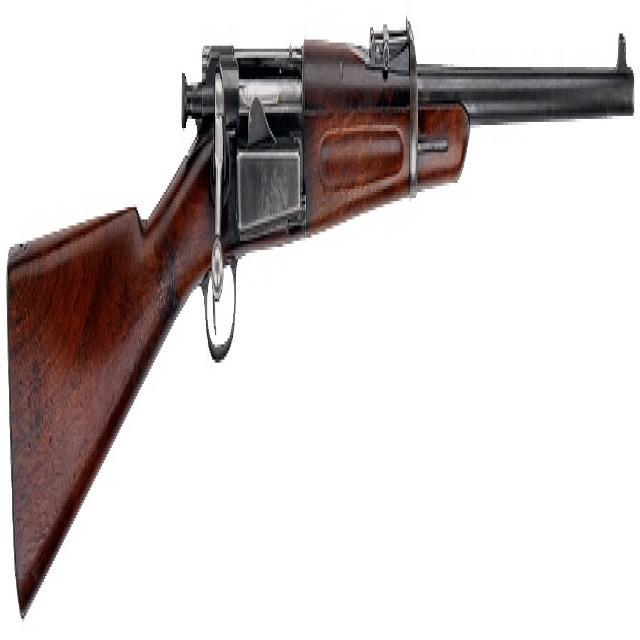gun-knife-thesis - v11 Yolov5 augmented: (4, 12, 639, 616)
